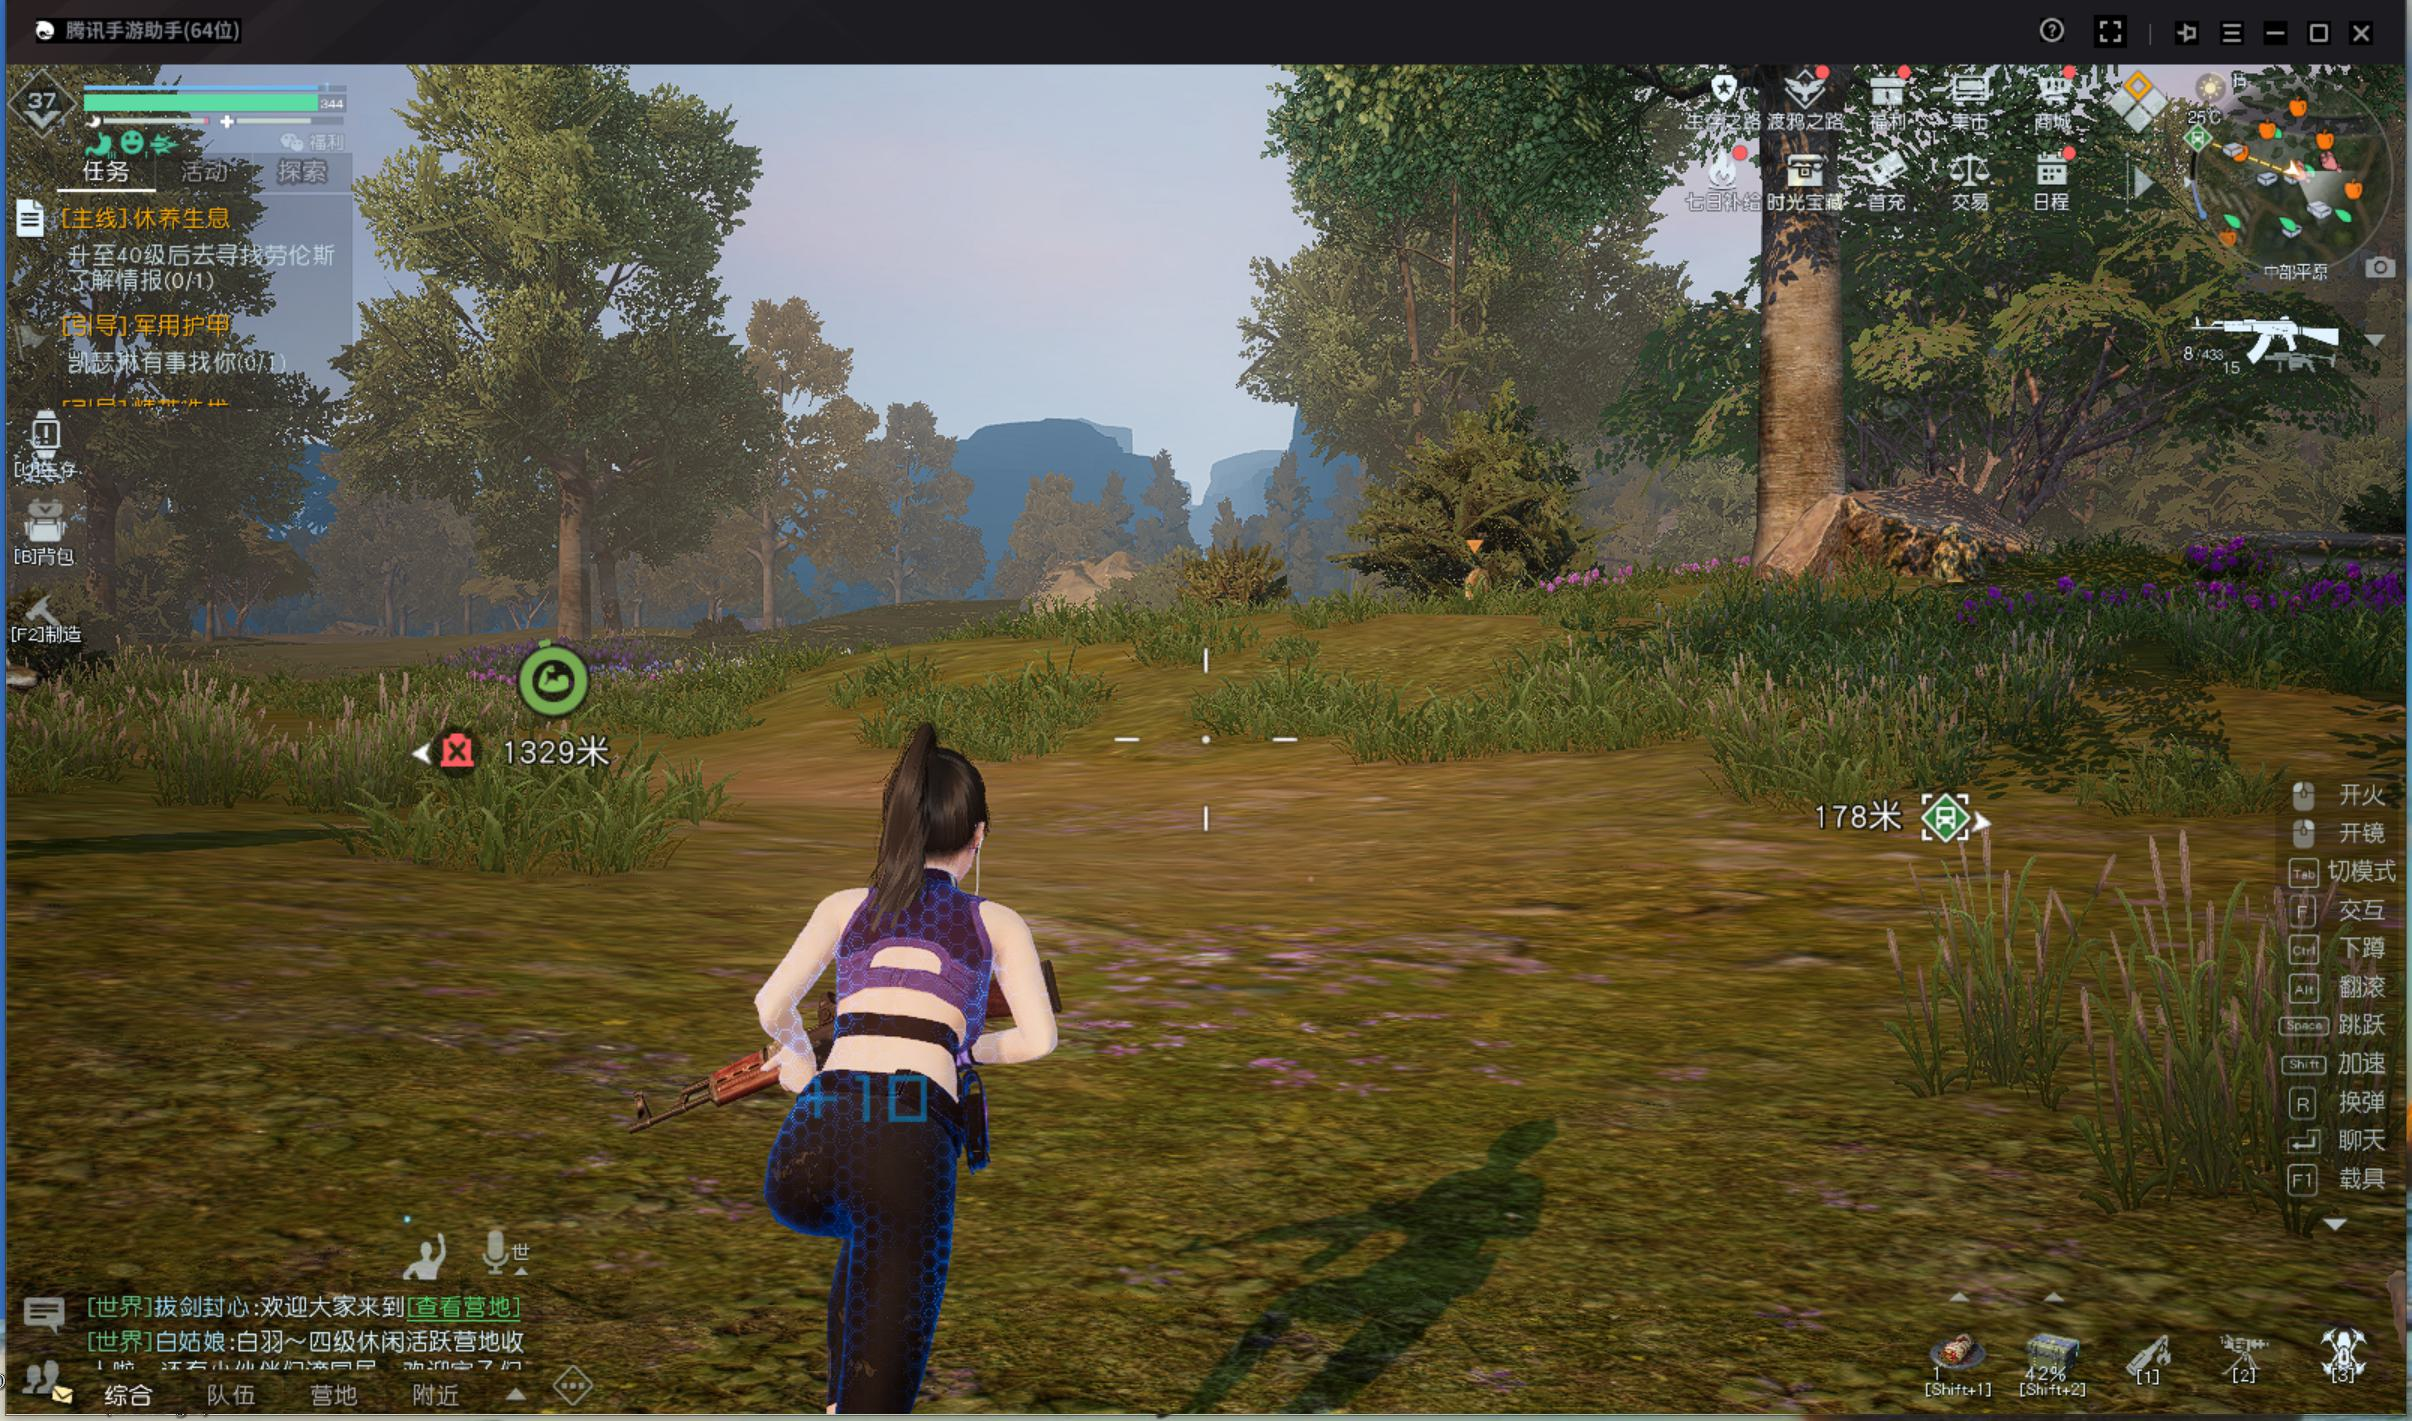stone: (1911, 519, 2003, 601)
tree: (1742, 304, 1866, 594), (546, 506, 602, 651), (753, 526, 788, 643), (886, 543, 913, 612)
